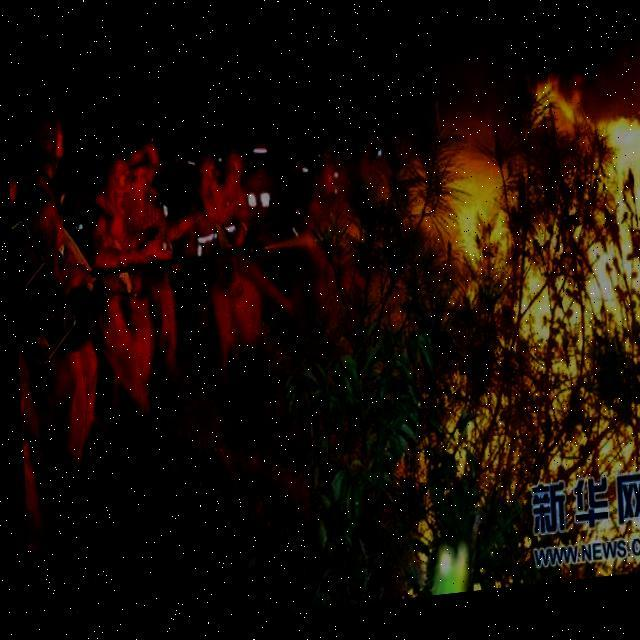Fire: (406, 81, 639, 602)
